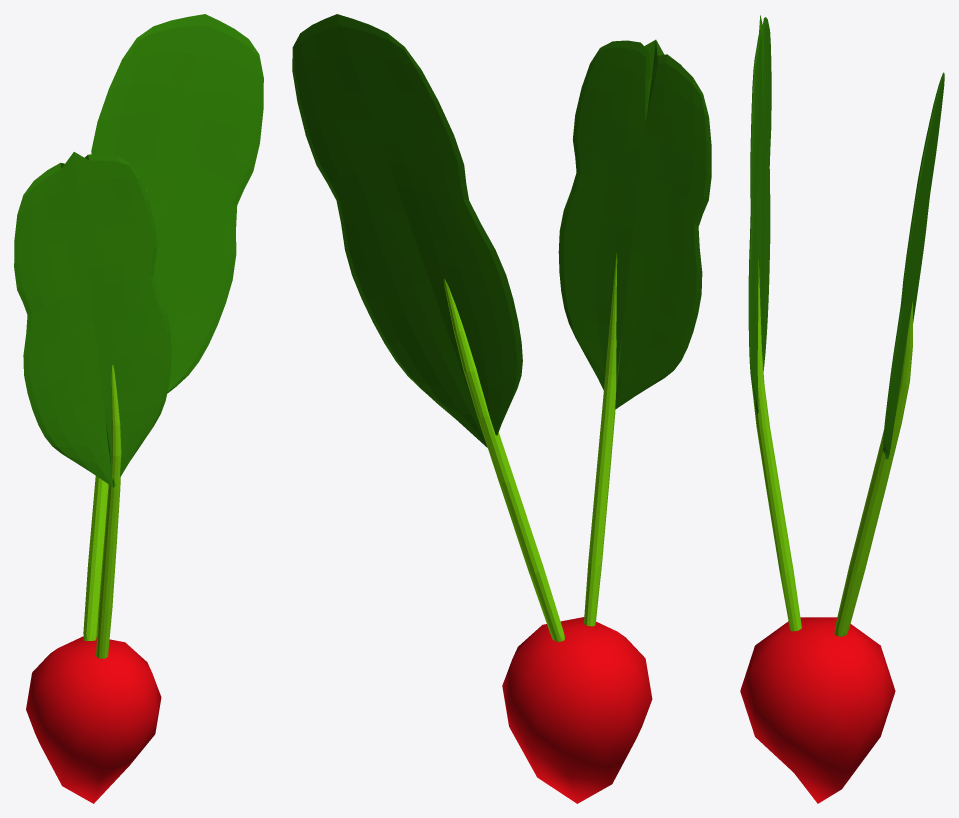
Rendered from Radish Seed Vegetating2Non2.fbx.
3 renders of one model, left to right at view 1: azimuth 30°, elevation 25°; view 2: azimuth 150°, elevation 25°; view 3: azimuth 270°, elevation 25°, orthographic. The views are drawn at different scales.
Parts seen in each view (by area): view 1: Plane, Plane.001, Icosphere, Cylinder.001, Cylinder.002; view 2: Plane.001, Plane, Icosphere, Cylinder.002, Cylinder.001; view 3: Icosphere, Plane, Plane.001, Cylinder.002, Cylinder.001.
Part boxes in pixels (<box>): Plane: <box>14,152,171,487</box>; Plane.001: <box>91,14,263,393</box>; Icosphere: <box>26,636,161,803</box>; Cylinder.001: <box>96,365,121,658</box>; Cylinder.002: <box>83,190,146,640</box>; Plane.001: <box>292,14,522,447</box>; Plane: <box>558,39,711,409</box>; Icosphere: <box>502,617,652,803</box>; Cylinder.002: <box>443,278,564,641</box>; Cylinder.001: <box>584,252,617,626</box>; Icosphere: <box>740,617,895,803</box>; Plane: <box>748,15,771,414</box>; Plane.001: <box>883,72,944,459</box>; Cylinder.002: <box>834,302,912,636</box>; Cylinder.001: <box>752,260,801,631</box>.
Size of the model in its own units: 524 by 1133 by 263.
